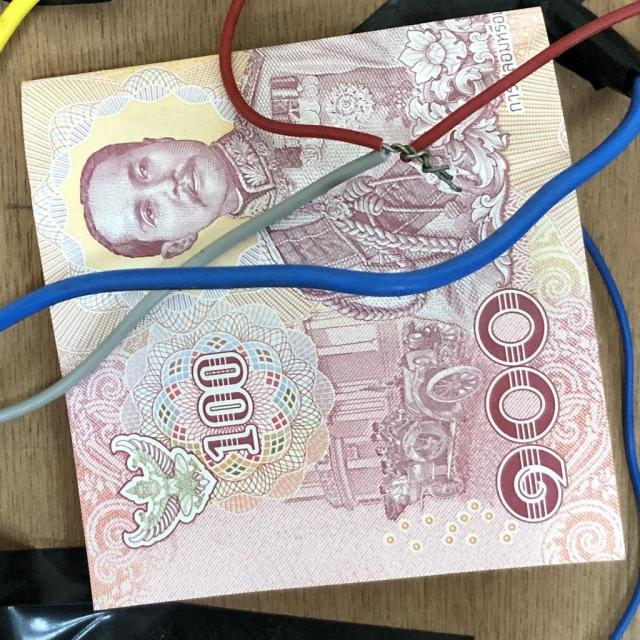THAI100: (49, 191, 627, 612), (20, 54, 373, 286), (192, 62, 574, 274), (232, 9, 553, 148)
